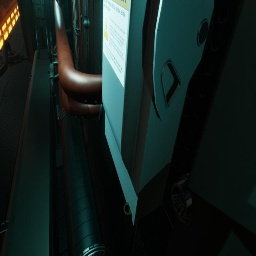SafetySwitchPanel ,: (102, 0, 214, 226)
